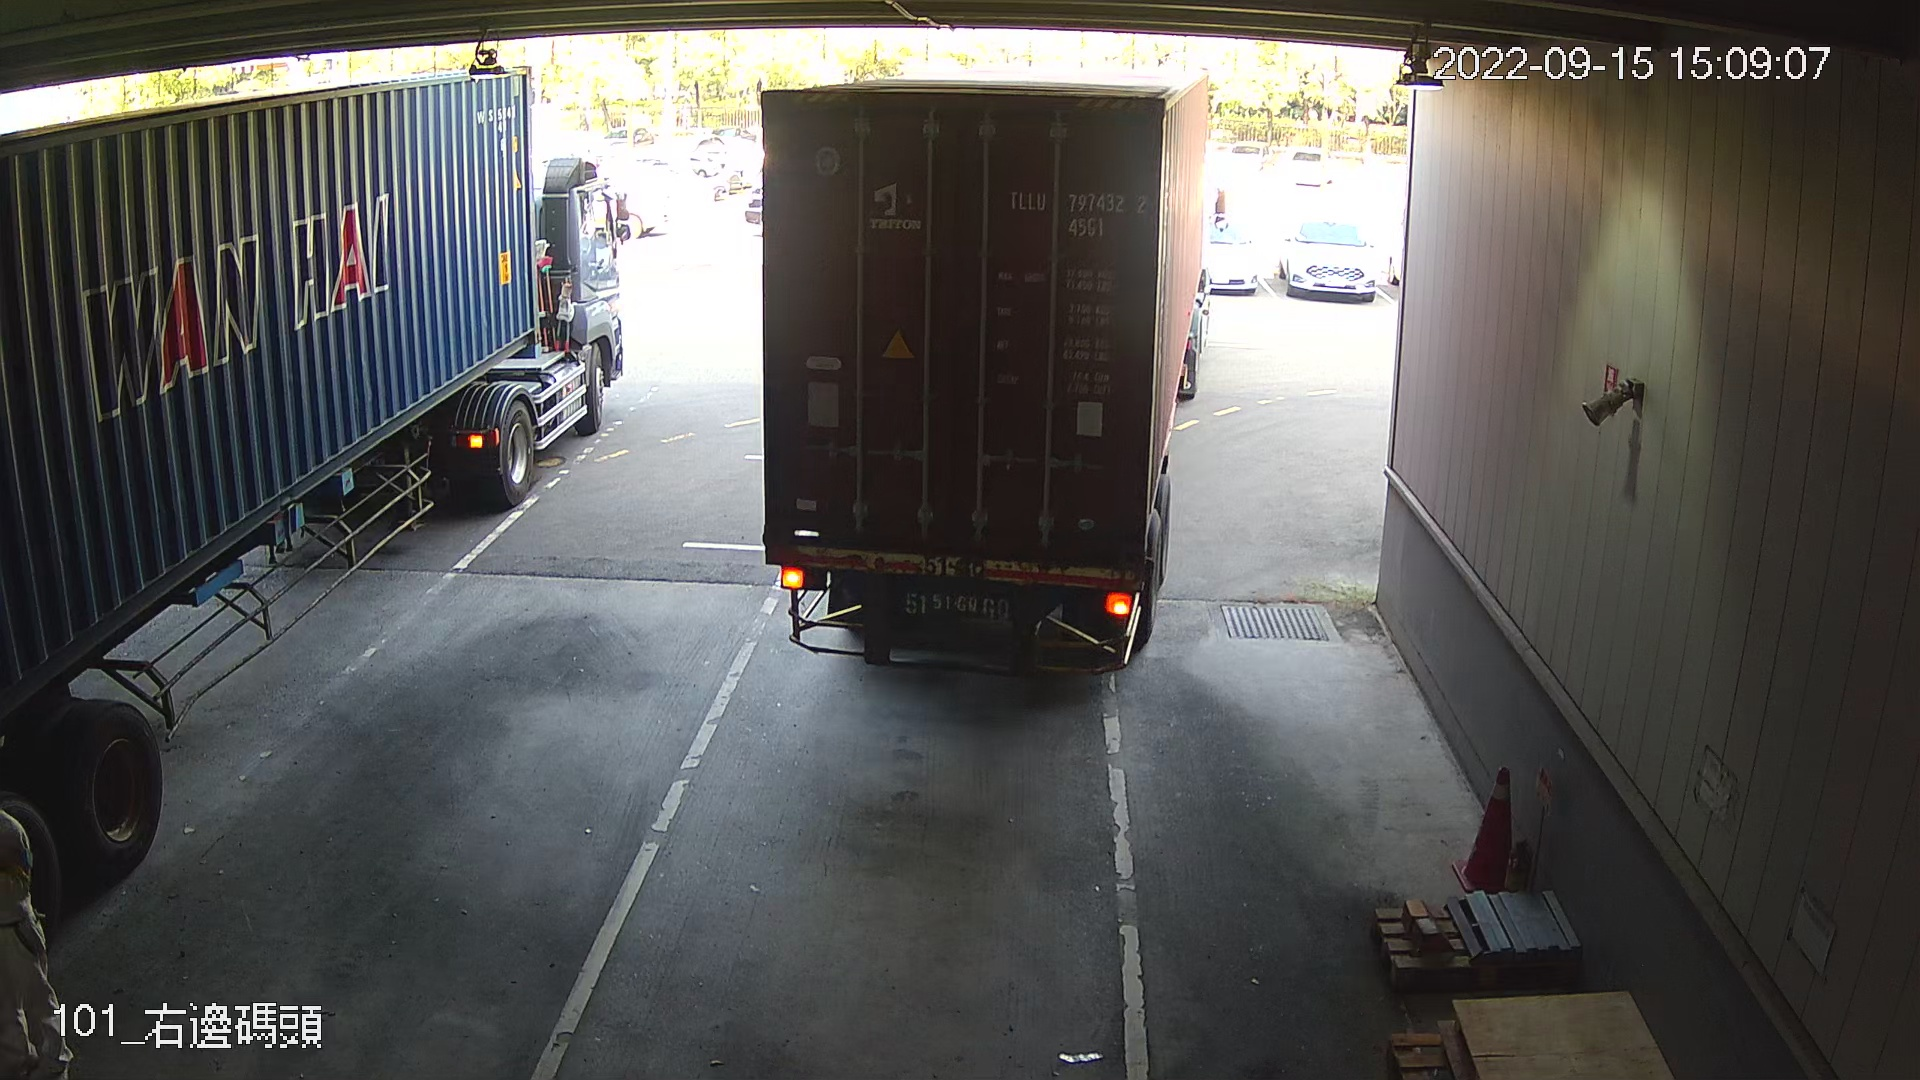container: (998, 177, 1153, 245)
